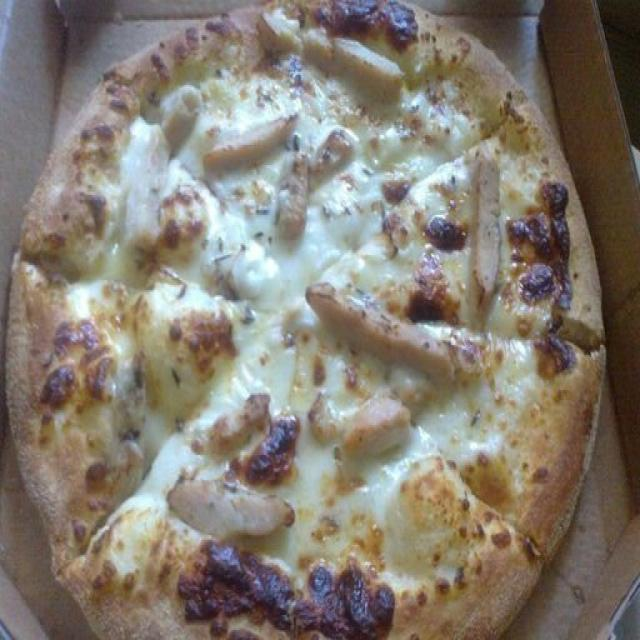Chicken: (300, 278, 486, 372), (267, 13, 404, 89), (167, 473, 291, 535), (202, 114, 295, 163), (341, 391, 408, 453), (473, 153, 500, 295), (216, 392, 269, 445), (165, 84, 196, 158), (283, 152, 306, 229), (310, 130, 352, 164)
Pizza: (5, 0, 605, 640)
